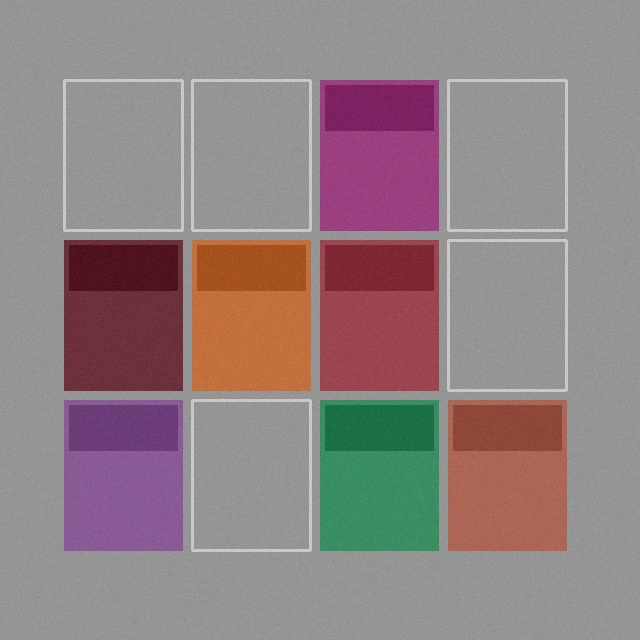space-empty: (64, 80, 182, 230), (192, 80, 310, 230), (448, 80, 566, 230), (448, 240, 566, 390), (192, 400, 310, 550)
space-occupied: (320, 80, 438, 230), (64, 240, 182, 390), (192, 240, 310, 390), (320, 240, 438, 390), (64, 400, 182, 550), (320, 400, 438, 550), (448, 400, 566, 550)
